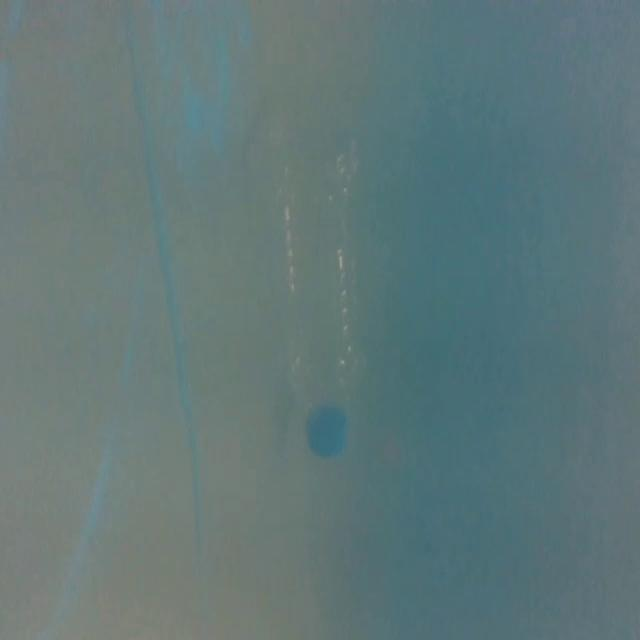plastic bottle: (266, 132, 376, 458)
